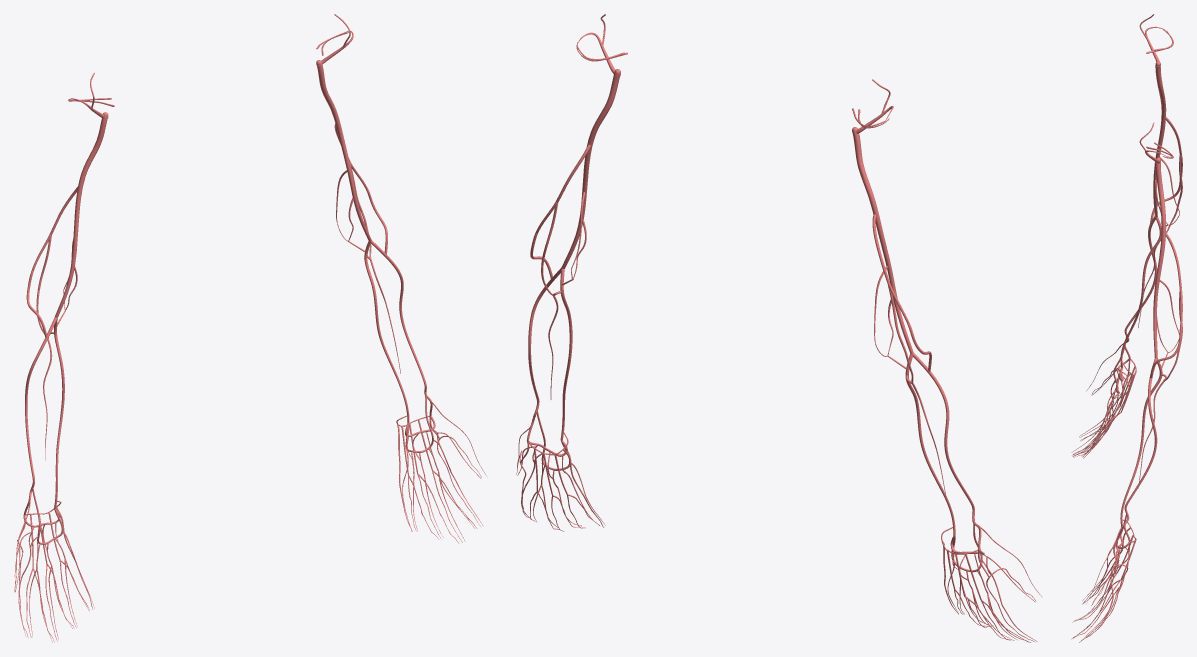
The model's file is arteres-membre-sup.lo.glb.
3 views of the same model, side by side, from view 1: azimuth 30°, elevation 25°; view 2: azimuth 150°, elevation 25°; view 3: azimuth 270°, elevation 25° (orthographic). The views are drawn at different scales.
Visible parts, largest first — view 1: FJ2271, FJ2219, FJ2318, FJ2346; view 2: FJ2271, FJ2219, FJ2294; view 3: FJ2219, FJ2271, FJ2318, FJ2242, FJ2258, FJ2310, FJ2346, FJ2294, FJ2347, FJ2348, FJ2264, FJ2243.
Boxes of the visible parts, x1=… form: FJ2271: x1=55, y1=112, x2=108, y2=317; FJ2219: x1=316, y1=60, x2=371, y2=241; FJ2318: x1=399, y1=436, x2=481, y2=543; FJ2346: x1=14, y1=540, x2=93, y2=642; FJ2271: x1=852, y1=127, x2=913, y2=354; FJ2219: x1=561, y1=69, x2=620, y2=268; FJ2294: x1=912, y1=353, x2=981, y2=549; FJ2219: x1=1153, y1=157, x2=1166, y2=358; FJ2271: x1=1153, y1=61, x2=1166, y2=217; FJ2318: x1=1073, y1=563, x2=1128, y2=638; FJ2242: x1=1123, y1=358, x2=1157, y2=541; FJ2258: x1=1120, y1=358, x2=1162, y2=526; FJ2310: x1=1120, y1=216, x2=1161, y2=367; FJ2346: x1=1073, y1=370, x2=1128, y2=458; FJ2294: x1=1124, y1=216, x2=1157, y2=358; FJ2347: x1=1114, y1=359, x2=1136, y2=415; FJ2348: x1=1114, y1=527, x2=1136, y2=586; FJ2264: x1=1139, y1=14, x2=1166, y2=67; FJ2243: x1=1150, y1=326, x2=1182, y2=378.
Size of the model in its own units: 0.6488 by 0.6785 by 0.1437.
